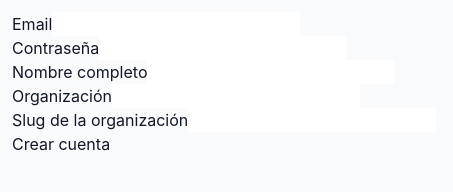
RegisterForm › rejects short passwords
Type "ana@b.c" into the field labelled "Email" at coordinates (176, 24), box [52,12,300,36]
Type "super-secret-123" into the password field labelled "Contraseña" at coordinates (223, 48), box [99,36,347,60]
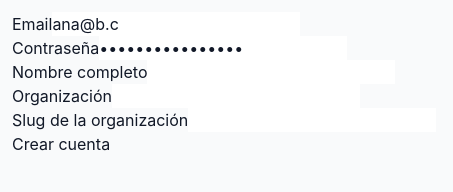
Type "Ana González" into the field labelled "Nombre completo" at coordinates (272, 72), box [148,60,396,84]
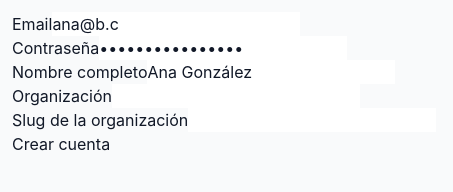
Type "Torre Norte" into the field labelled "Organización" at coordinates (236, 96), box [112,84,360,108]
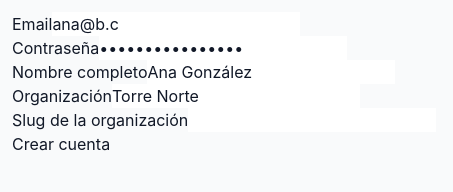
Type "torre-norte" into the field labelled "Slug de la organización" at coordinates (312, 120), box [188,108,436,132]
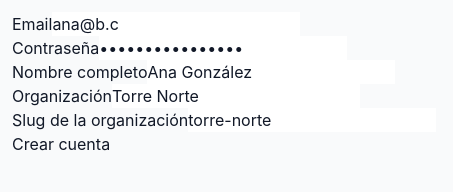
Type "short" into the password field labelled "Contraseña" at coordinates (223, 48), box [99,36,347,60]
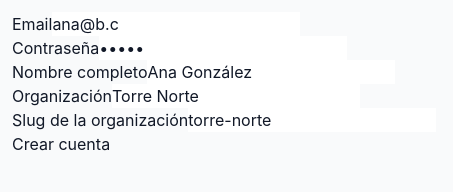
Click the button "Crear cuenta" at coordinates (61, 144), box [12,132,110,156]
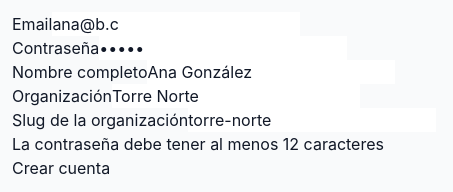
Now the message with test id "register-error" shows "12 caracteres", box [12,134,384,154]
